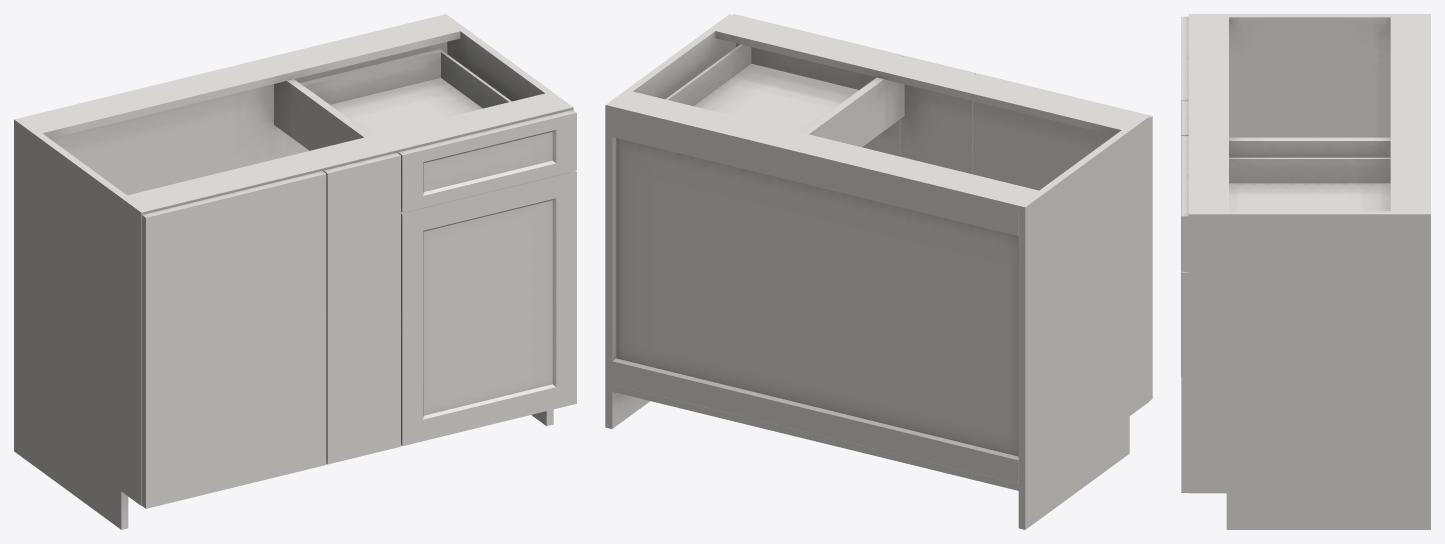
The model's file is blind-corner-1-drawer-base-doors-on.glb.
3 views of the same model, side by side, from view 1: azimuth 30°, elevation 25°; view 2: azimuth 150°, elevation 25°; view 3: azimuth 270°, elevation 25° (orthographic). The views are drawn at different scales.
Parts seen in each view (by area): view 1: part_0, part_20, part_2; view 2: part_0, part_20, part_2; view 3: part_0, part_2, part_20.
Part boxes in pixels (x1=…): part_0: x1=14, y1=14, x2=573, y2=529; part_20: x1=323, y1=110, x2=576, y2=464; part_2: x1=300, y1=49, x2=511, y2=135; part_0: x1=605, y1=14, x2=1152, y2=529; part_20: x1=733, y1=14, x2=975, y2=174; part_2: x1=665, y1=44, x2=876, y2=132; part_0: x1=1181, y1=14, x2=1430, y2=529; part_2: x1=1229, y1=157, x2=1390, y2=211; part_20: x1=1181, y1=100, x2=1188, y2=492.
Size of the model in its own units: 1.19 by 0.8763 by 0.6289.
3 materials, 2 textured.
